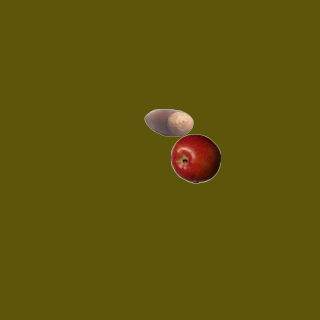Apple Braeburn: (170, 133, 220, 183)
Hazelnut: (143, 97, 193, 147)
